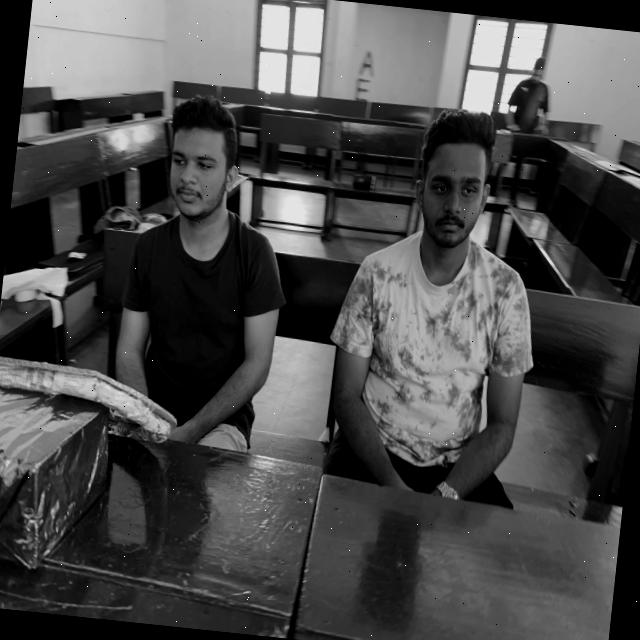no-seatbelt: (320, 233, 544, 524), (104, 206, 288, 479)
